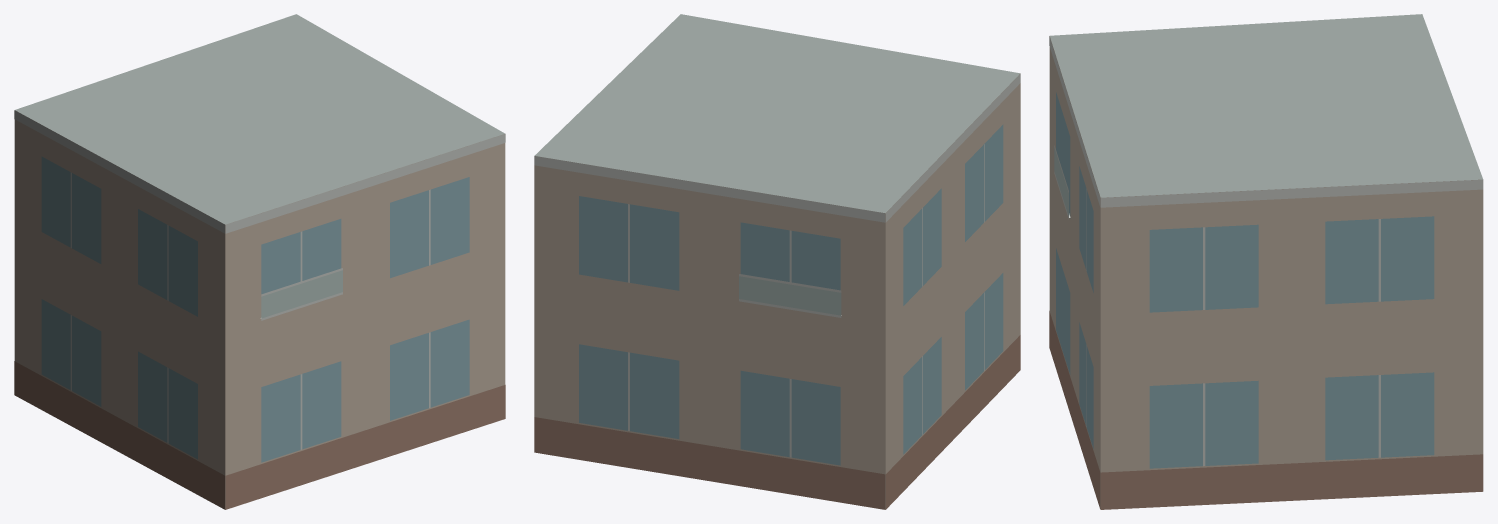
The model's file is survey-upis-32580463.glb.
The picture shows the model from 3 angles, left to right: view 1: azimuth 30°, elevation 25°; view 2: azimuth 150°, elevation 25°; view 3: azimuth 270°, elevation 25°; orthographic projection. The views are drawn at different scales.
Visible parts, largest first — view 1: survey-upis-32580463.tmp; view 2: survey-upis-32580463.tmp; view 3: survey-upis-32580463.tmp.
Boxes of the visible parts, box(x1,y1,x2,y2) form: survey-upis-32580463.tmp: box(14, 14, 505, 509); survey-upis-32580463.tmp: box(534, 14, 1020, 509); survey-upis-32580463.tmp: box(1049, 14, 1483, 509).
Bounding box in the file's own units: 9.6 × 7.6 × 9.58.
